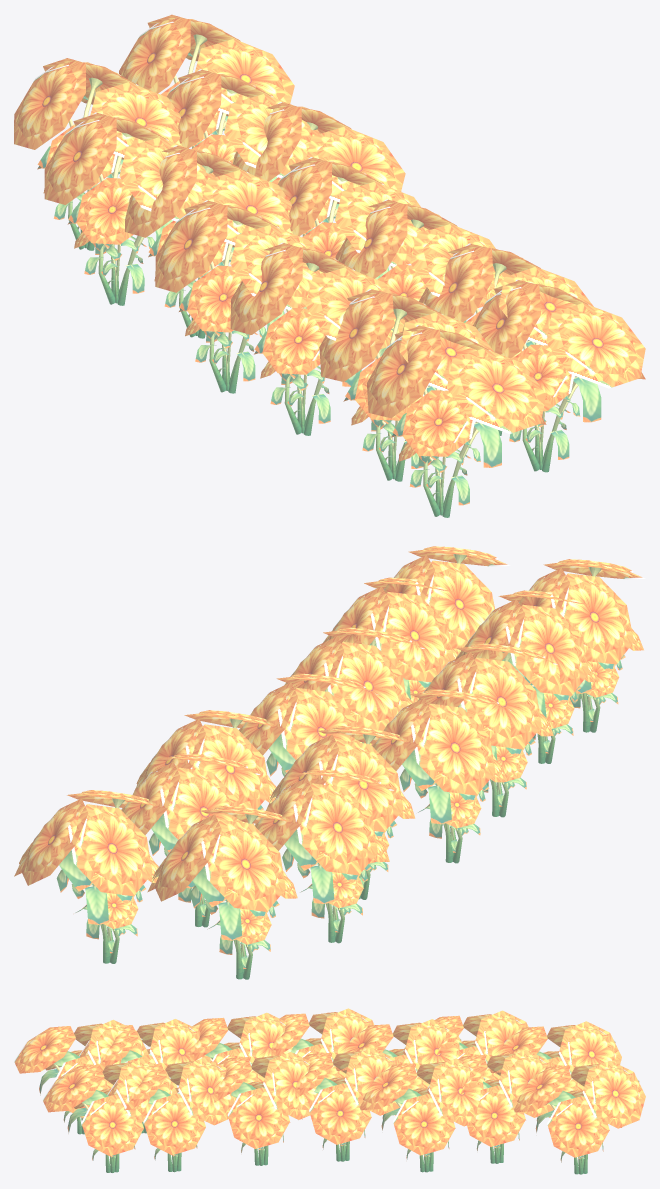
The model's file is Floresitas.glb.
3 views of the same model, one above another, from view 1: azimuth 30°, elevation 25°; view 2: azimuth 150°, elevation 25°; view 3: azimuth 270°, elevation 25° (orthographic). The views are drawn at different scales.
Visible parts, largest first — view 1: FlowerA_02; view 2: FlowerA_02; view 3: FlowerA_02.
Part boxes in pixels (x1,y1,x2,y2): FlowerA_02: (14,14,645,517); FlowerA_02: (14,546,645,979); FlowerA_02: (14,1008,645,1174).
Size of the model in its own units: 1.13 by 0.6199 by 3.1.
1 material, 1 textured.
